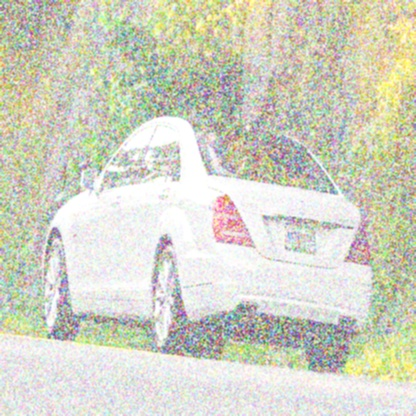Vehicle: (38, 112, 374, 374)
